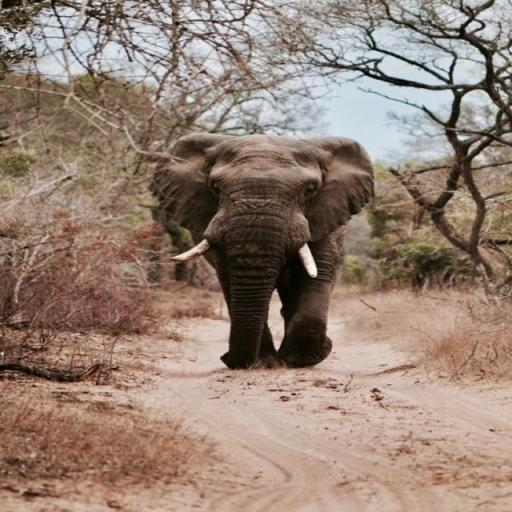Elephant: (146, 132, 376, 370)
